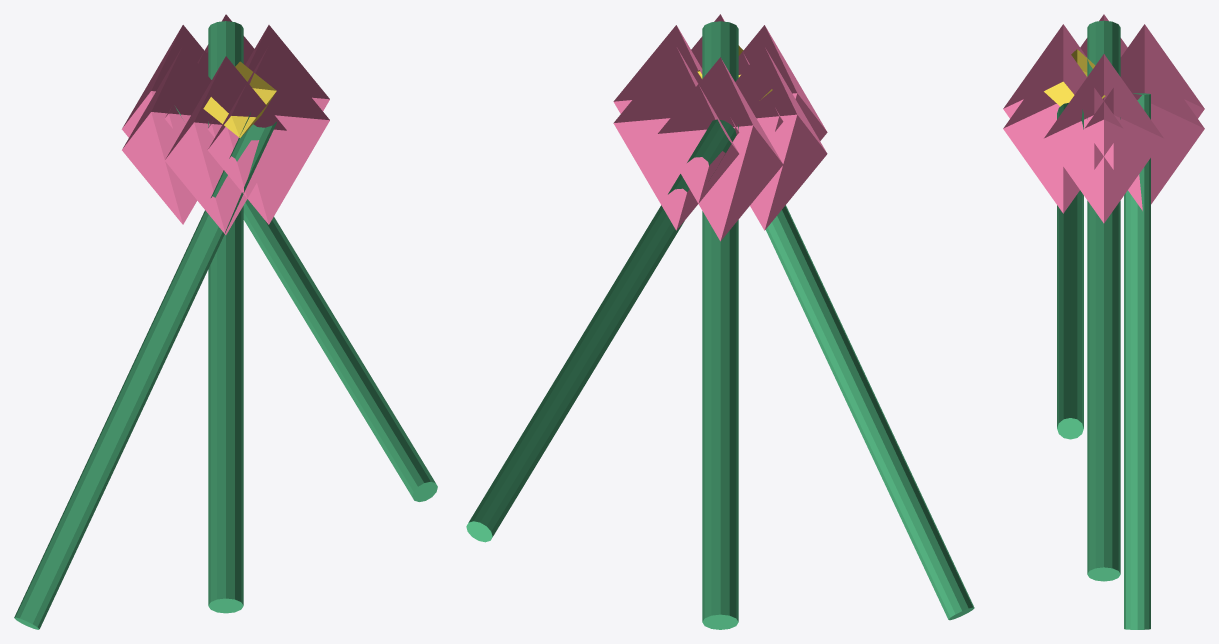
Rendered from minglora_hibiscus_bouquet.gltf.
3 views of the same model, side by side, from view 1: azimuth 30°, elevation 25°; view 2: azimuth 150°, elevation 25°; view 3: azimuth 270°, elevation 25° (orthographic). The views are drawn at different scales.
Parts seen in each view (by area): view 1: minglora_hibiscus_bouquet_0, minglora_hibiscus_bouquet_1, minglora_hibiscus_bouquet_2, minglora_hibiscus_bouquet_5, minglora_hibiscus_bouquet_4, minglora_hibiscus_bouquet_6, minglora_hibiscus_bouquet_7, minglora_hibiscus_bouquet_3, minglora_hibiscus_bouquet_9; view 2: minglora_hibiscus_bouquet_0, minglora_hibiscus_bouquet_1, minglora_hibiscus_bouquet_2, minglora_hibiscus_bouquet_7, minglora_hibiscus_bouquet_8, minglora_hibiscus_bouquet_6, minglora_hibiscus_bouquet_5, minglora_hibiscus_bouquet_3; view 3: minglora_hibiscus_bouquet_0, minglora_hibiscus_bouquet_2, minglora_hibiscus_bouquet_3, minglora_hibiscus_bouquet_1, minglora_hibiscus_bouquet_4, minglora_hibiscus_bouquet_8, minglora_hibiscus_bouquet_7, minglora_hibiscus_bouquet_5, minglora_hibiscus_bouquet_9.
Part boxes in pixels (x1,y1,x2,y2): minglora_hibiscus_bouquet_0: (208,21,243,613); minglora_hibiscus_bouquet_1: (14,112,276,629); minglora_hibiscus_bouquet_2: (175,106,437,501); minglora_hibiscus_bouquet_5: (164,56,286,234); minglora_hibiscus_bouquet_4: (208,46,329,224); minglora_hibiscus_bouquet_6: (122,46,211,224); minglora_hibiscus_bouquet_7: (122,25,208,137); minglora_hibiscus_bouquet_3: (207,25,329,137); minglora_hibiscus_bouquet_9: (203,61,276,137); minglora_hibiscus_bouquet_0: (702,21,738,629); minglora_hibiscus_bouquet_1: (765,205,974,620); minglora_hibiscus_bouquet_2: (466,119,736,542); minglora_hibiscus_bouquet_7: (657,57,783,241); minglora_hibiscus_bouquet_8: (613,46,738,230); minglora_hibiscus_bouquet_6: (735,46,827,230); minglora_hibiscus_bouquet_5: (738,25,827,140); minglora_hibiscus_bouquet_3: (613,25,739,135); minglora_hibiscus_bouquet_0: (1087,20,1120,581); minglora_hibiscus_bouquet_2: (1124,93,1150,629); minglora_hibiscus_bouquet_3: (1043,54,1164,223); minglora_hibiscus_bouquet_1: (1057,103,1083,439); minglora_hibiscus_bouquet_4: (1003,44,1123,213); minglora_hibiscus_bouquet_8: (1084,44,1204,210); minglora_hibiscus_bouquet_7: (1120,24,1204,118); minglora_hibiscus_bouquet_5: (1003,24,1087,118); minglora_hibiscus_bouquet_9: (1044,49,1105,106).
Bounding box in the file's own units: 1.48 × 1.8 × 0.6025.
